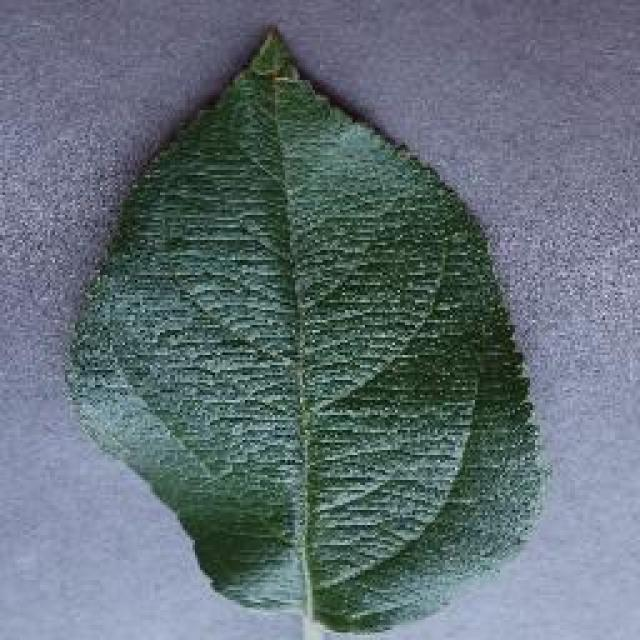apple healthy: (62, 22, 550, 638)
